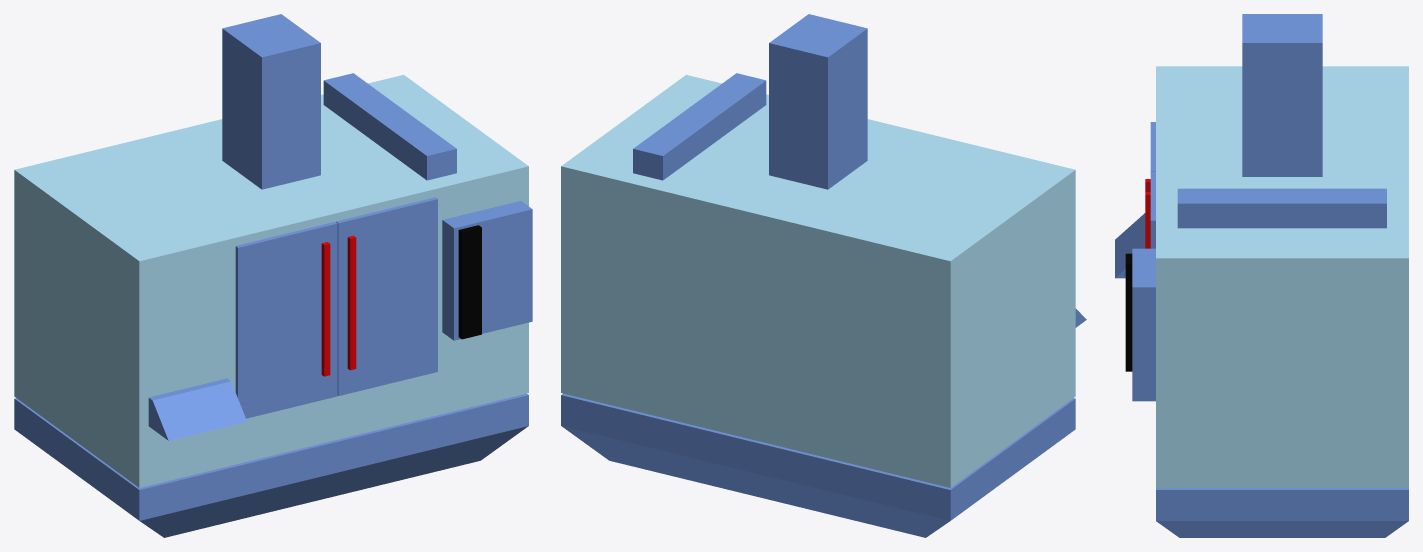
Rendered from mesin CNC.fbx.
3 views of the same model, side by side, from view 1: azimuth 30°, elevation 25°; view 2: azimuth 150°, elevation 25°; view 3: azimuth 270°, elevation 25° (orthographic).
Visible parts, largest first — view 1: Cube.002, Cube.003, Cube, Cube.001, Cube.004, Cube.008, Cube.005, Cube.010, Cube.009, Cube.006, Cube.007; view 2: Cube.002, Cube.003, Cube.004, Cube.005; view 3: Cube.002, Cube.004, Cube.003, Cube.005, Cube.008, Cube.010, Cube.009, Cube.001.
Part boxes in pixels (bbox=[...]): Cube.002: bbox=[14, 74, 528, 487]; Cube.003: bbox=[14, 393, 528, 537]; Cube: bbox=[235, 222, 337, 418]; Cube.001: bbox=[336, 197, 437, 395]; Cube.004: bbox=[222, 14, 320, 189]; Cube.008: bbox=[442, 201, 532, 340]; Cube.005: bbox=[323, 73, 456, 180]; Cube.010: bbox=[148, 378, 247, 440]; Cube.009: bbox=[458, 225, 481, 339]; Cube.006: bbox=[347, 235, 356, 370]; Cube.007: bbox=[321, 242, 330, 376]; Cube.002: bbox=[561, 74, 1075, 487]; Cube.003: bbox=[561, 393, 1075, 537]; Cube.004: bbox=[769, 14, 867, 189]; Cube.005: bbox=[633, 73, 766, 180]; Cube.002: bbox=[1156, 66, 1408, 487]; Cube.004: bbox=[1242, 14, 1322, 176]; Cube.003: bbox=[1156, 488, 1408, 537]; Cube.005: bbox=[1177, 188, 1386, 228]; Cube.008: bbox=[1132, 248, 1155, 401]; Cube.010: bbox=[1115, 213, 1145, 278]; Cube.009: bbox=[1125, 253, 1132, 371]; Cube.001: bbox=[1150, 171, 1155, 248].
Size of the model in its own units: 400 by 418 by 258.
